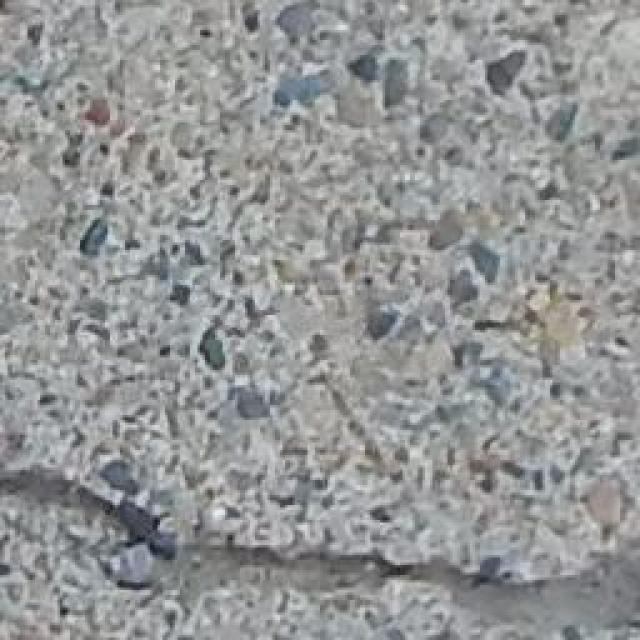concrete-crack: (0, 459, 640, 636)
